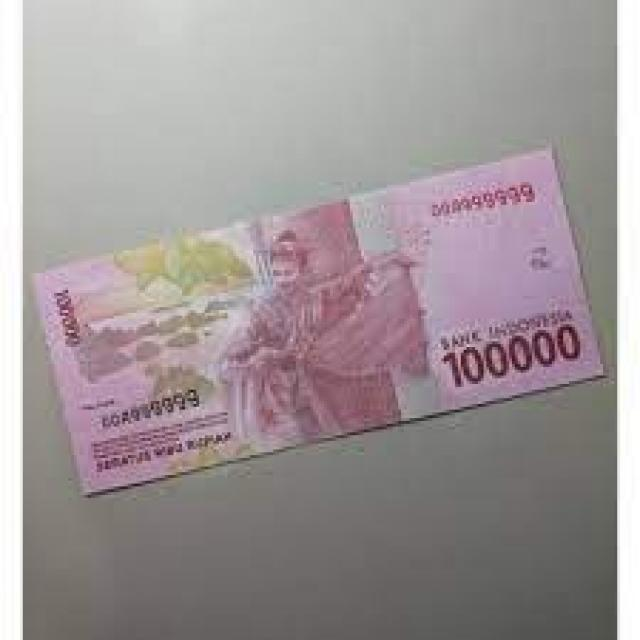seratus ribu rupiah: (36, 149, 602, 494)
